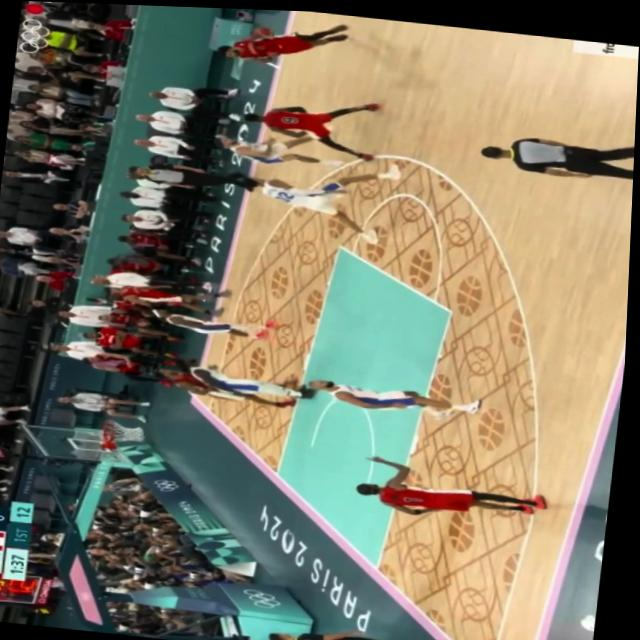ball_handler: (218, 9, 353, 68)
